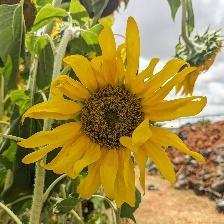sunflower: (30, 31, 198, 207)
